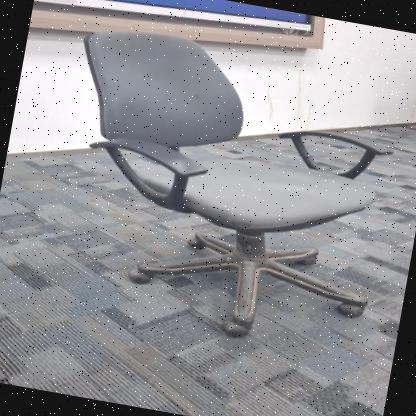chair: (31, 12, 414, 364)
